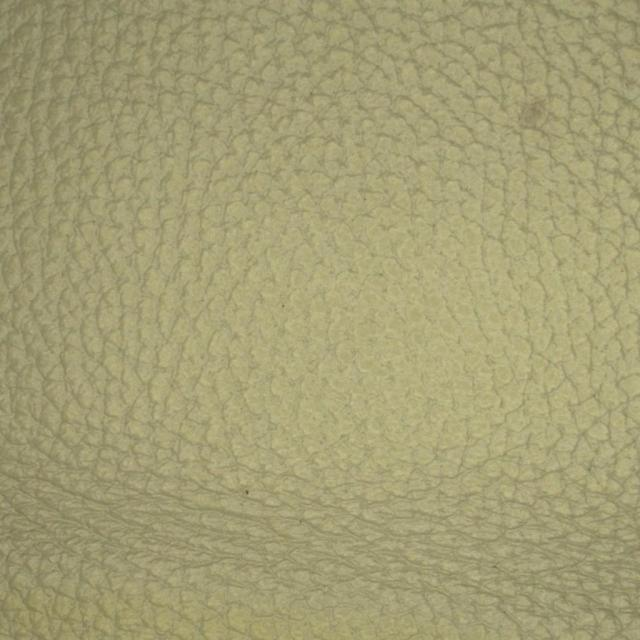Bacterial Injury: (433, 58, 612, 165)
